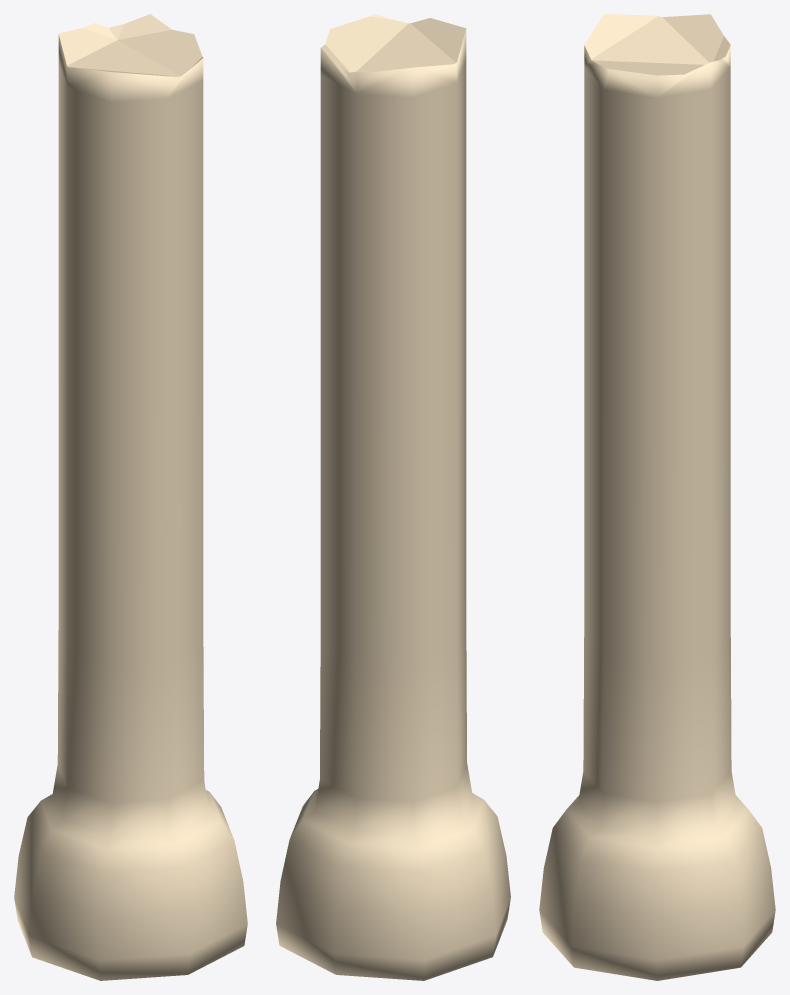
File: columnN01.fbx
3 renders of one model, left to right at view 1: azimuth 30°, elevation 25°; view 2: azimuth 150°, elevation 25°; view 3: azimuth 270°, elevation 25°, orthographic.
Parts seen in each view (by area): view 1: columnN01; view 2: columnN01; view 3: columnN01.
Boxes of the visible parts, x1=… form: columnN01: x1=14, y1=14, x2=247, y2=980; columnN01: x1=276, y1=14, x2=510, y2=980; columnN01: x1=539, y1=14, x2=775, y2=980.
Size of the model in its own units: 248 by 1048 by 248.
